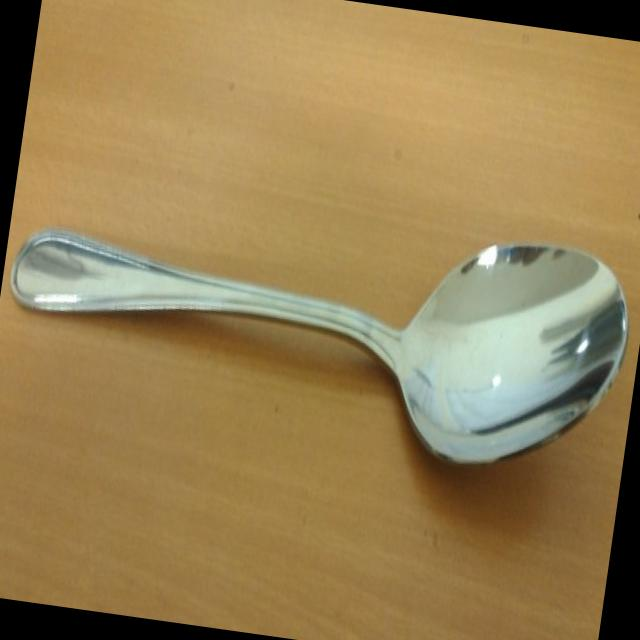spoon: (0, 137, 640, 508)
